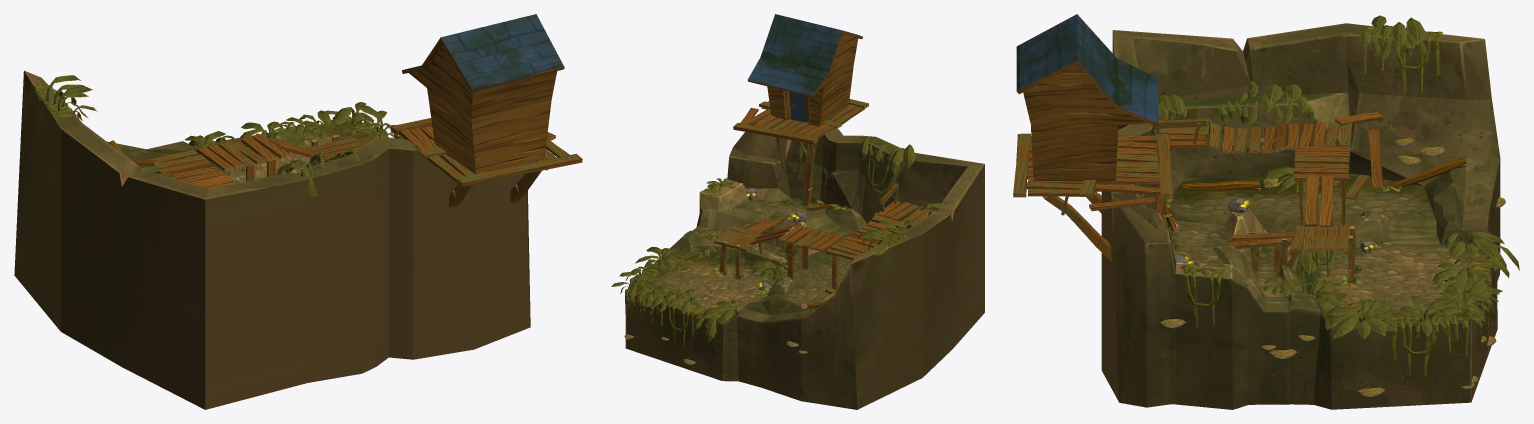
The model's file is jungle-scene.glb.
3 renders of one model, left to right at view 1: azimuth 30°, elevation 25°; view 2: azimuth 150°, elevation 25°; view 3: azimuth 270°, elevation 25°, orthographic. The views are drawn at different scales.
Parts seen in each view (by area): view 1: Plane001_Material #34_0, Box081_Material #44_0, Plane002_Material #35_0, Box003_Material #37_0, Box002_Material #36_0, Box024_Material #31_0, Plane493_Material #38_0; view 2: Plane001_Material #34_0, Box081_Material #44_0, Plane002_Material #35_0, Box003_Material #37_0, Box002_Material #36_0, Plane493_Material #38_0, Box024_Material #31_0, Plane012_Material #288_0, Plane712_Material #32_0; view 3: Plane001_Material #34_0, Box081_Material #44_0, Plane002_Material #35_0, Box002_Material #36_0, Box003_Material #37_0, Plane493_Material #38_0, Box024_Material #31_0, Box111_Material #42_0, Plane012_Material #288_0, Cylinder001_Material #39_0, Plane712_Material #32_0, Sphere003_Material #41_0.
Part boxes in pixels (x1,y1,x2,y2): Plane001_Material #34_0: (14, 70, 530, 409); Box081_Material #44_0: (402, 14, 564, 174); Plane002_Material #35_0: (46, 75, 395, 196); Box003_Material #37_0: (146, 118, 582, 186); Box002_Material #36_0: (132, 126, 555, 189); Box024_Material #31_0: (184, 133, 553, 207); Plane493_Material #38_0: (34, 85, 392, 174); Plane001_Material #34_0: (625, 115, 984, 409); Box081_Material #44_0: (747, 14, 862, 126); Plane002_Material #35_0: (611, 137, 940, 341); Box003_Material #37_0: (713, 99, 918, 293); Box002_Material #36_0: (740, 107, 911, 278); Plane493_Material #38_0: (625, 137, 915, 345); Box024_Material #31_0: (719, 141, 933, 289); Plane012_Material #288_0: (713, 182, 896, 295); Plane712_Material #32_0: (707, 197, 848, 296); Plane001_Material #34_0: (1101, 23, 1500, 409); Box081_Material #44_0: (1016, 14, 1158, 181); Plane002_Material #35_0: (1158, 15, 1519, 338); Box002_Material #36_0: (1027, 111, 1383, 248); Box003_Material #37_0: (1013, 118, 1369, 251); Plane493_Material #38_0: (1162, 25, 1491, 377); Box024_Material #31_0: (1042, 119, 1355, 283); Box111_Material #42_0: (1165, 157, 1467, 232); Plane012_Material #288_0: (1166, 34, 1425, 285); Cylinder001_Material #39_0: (1160, 133, 1505, 397); Plane712_Material #32_0: (1165, 185, 1394, 299); Sphere003_Material #41_0: (1175, 197, 1372, 263).
Size of the model in its own units: 390 by 316 by 434.
Materials: 15 (15 with a texture image).
